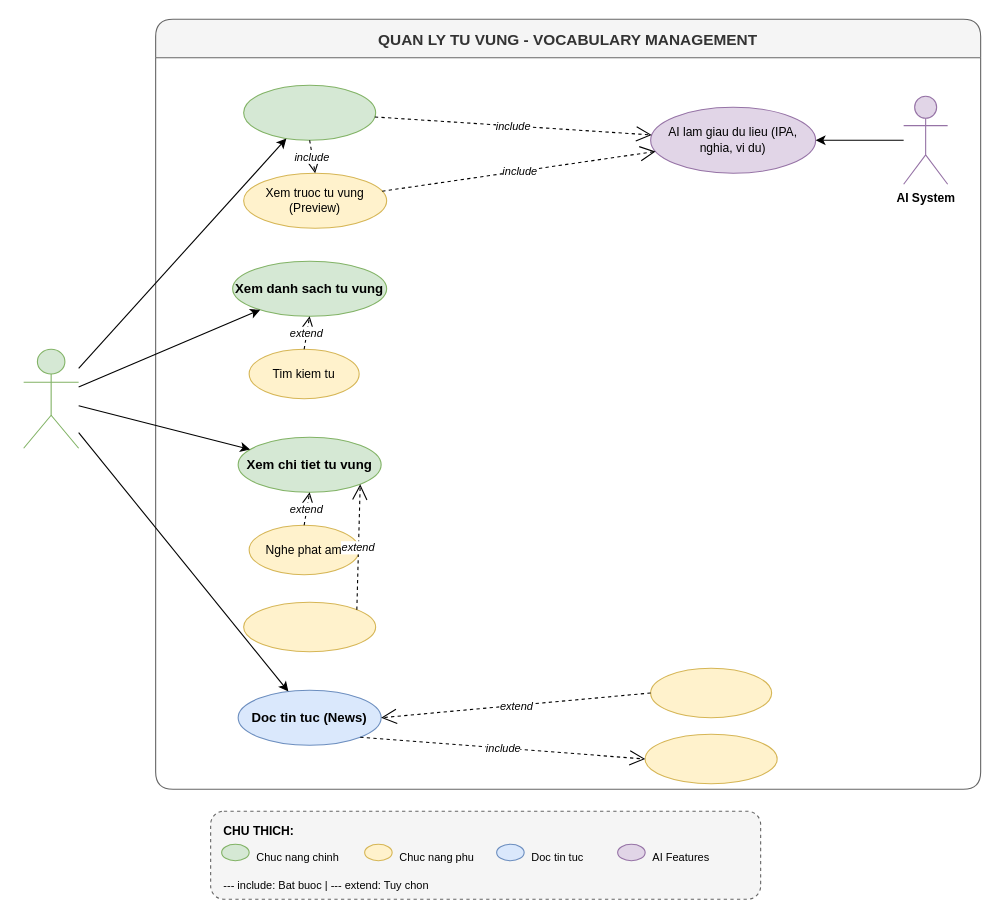
Image size: 1000x919. Some labels were removed from this diagram. The box of each missing label's shape, as (x1, y1, x2, y2) in pixels:
Chuyen tu tiep theo: (243, 601, 376, 652)
Nguoi hoc: (23, 348, 79, 448)
Them tu moi: (243, 84, 376, 140)
Tim kiem tin tuc: (650, 667, 772, 718)
Xem chi tiet tin tuc: (644, 733, 777, 784)
